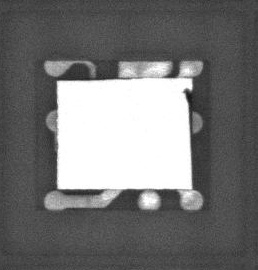DIE_BROKEN: (181, 87, 192, 127)
